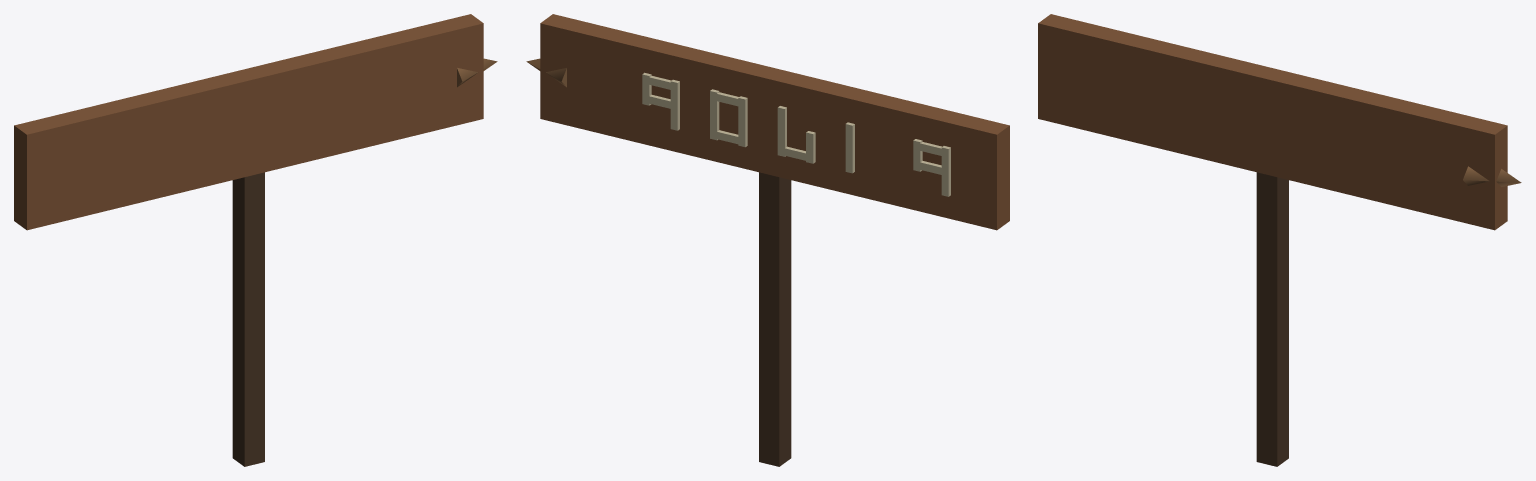
Rendered from sign_river.glb.
The picture shows the model from 3 angles, left to right: view 1: azimuth 30°, elevation 25°; view 2: azimuth 150°, elevation 25°; view 3: azimuth 330°, elevation 25°; orthographic projection.
Visible parts, largest first — view 1: sign_river_LOD0; view 2: sign_river_LOD0; view 3: sign_river_LOD0.
Boxes of the visible parts, x1,y1,x2,y2 form: sign_river_LOD0: [14, 14, 497, 466]; sign_river_LOD0: [526, 14, 1009, 466]; sign_river_LOD0: [1038, 14, 1521, 466].
Size of what is drawn, in the model's own units: 3.03 by 2.34 by 0.26.
